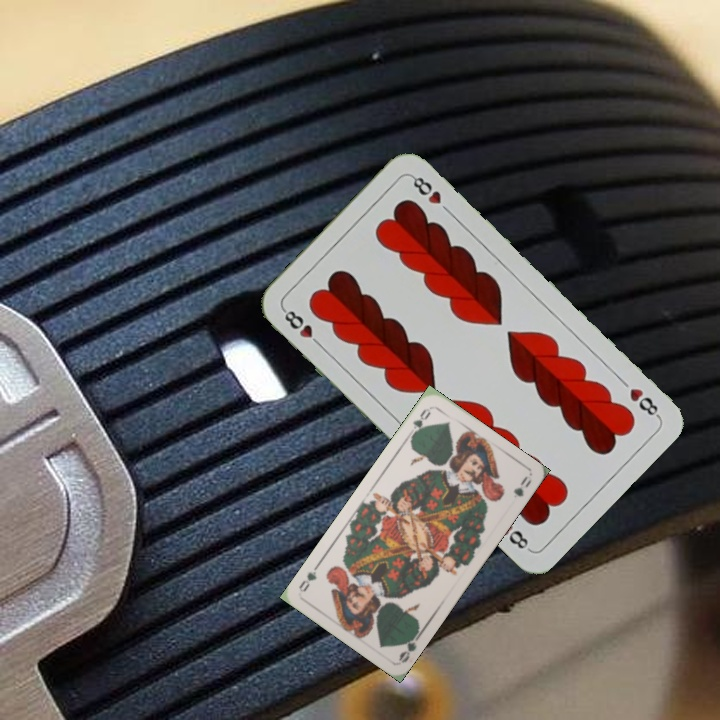GO: (395, 626, 424, 665), (407, 404, 434, 440)
H8: (279, 305, 326, 351), (625, 384, 662, 420)
